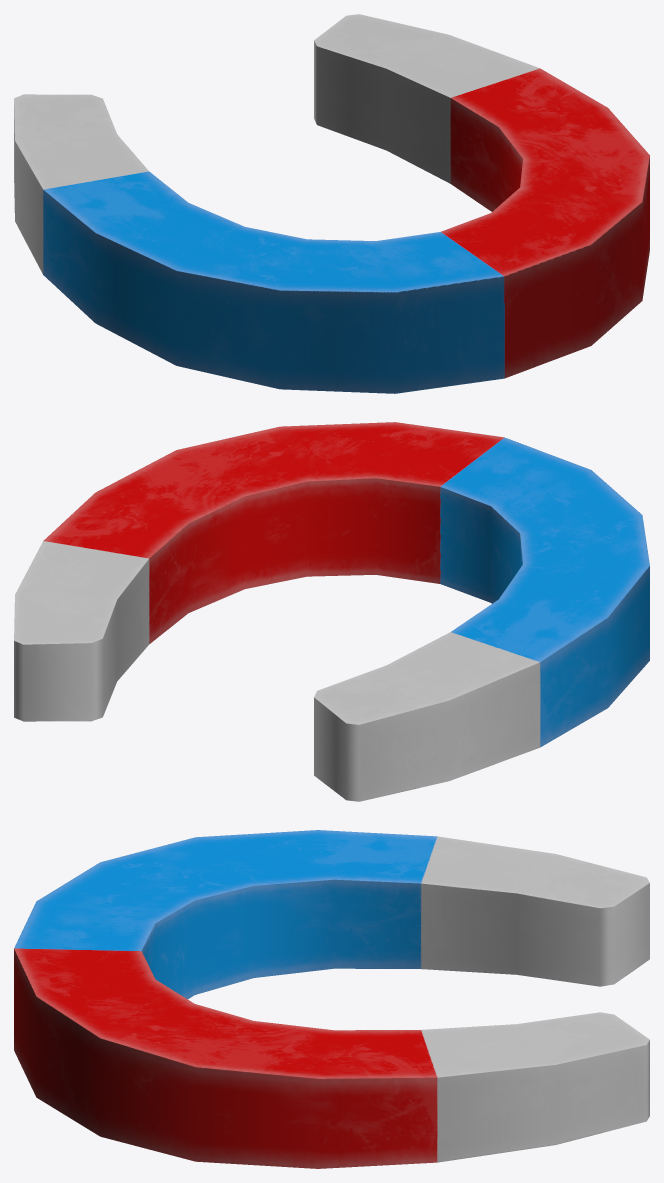
File: Magnet.FBX
3 renders of one model, top to bottom at view 1: azimuth 30°, elevation 25°; view 2: azimuth 150°, elevation 25°; view 3: azimuth 270°, elevation 25°, orthographic.
Parts seen in each view (by area): view 1: Magnet; view 2: Magnet; view 3: Magnet.
Part boxes in pixels (<box>): Magnet: <box>14,14,649,393</box>; Magnet: <box>14,422,649,801</box>; Magnet: <box>14,830,649,1168</box>.
Size of the model in its own units: 26.72 by 5.1 by 28.85.
Materials: 1 (1 with a texture image).
